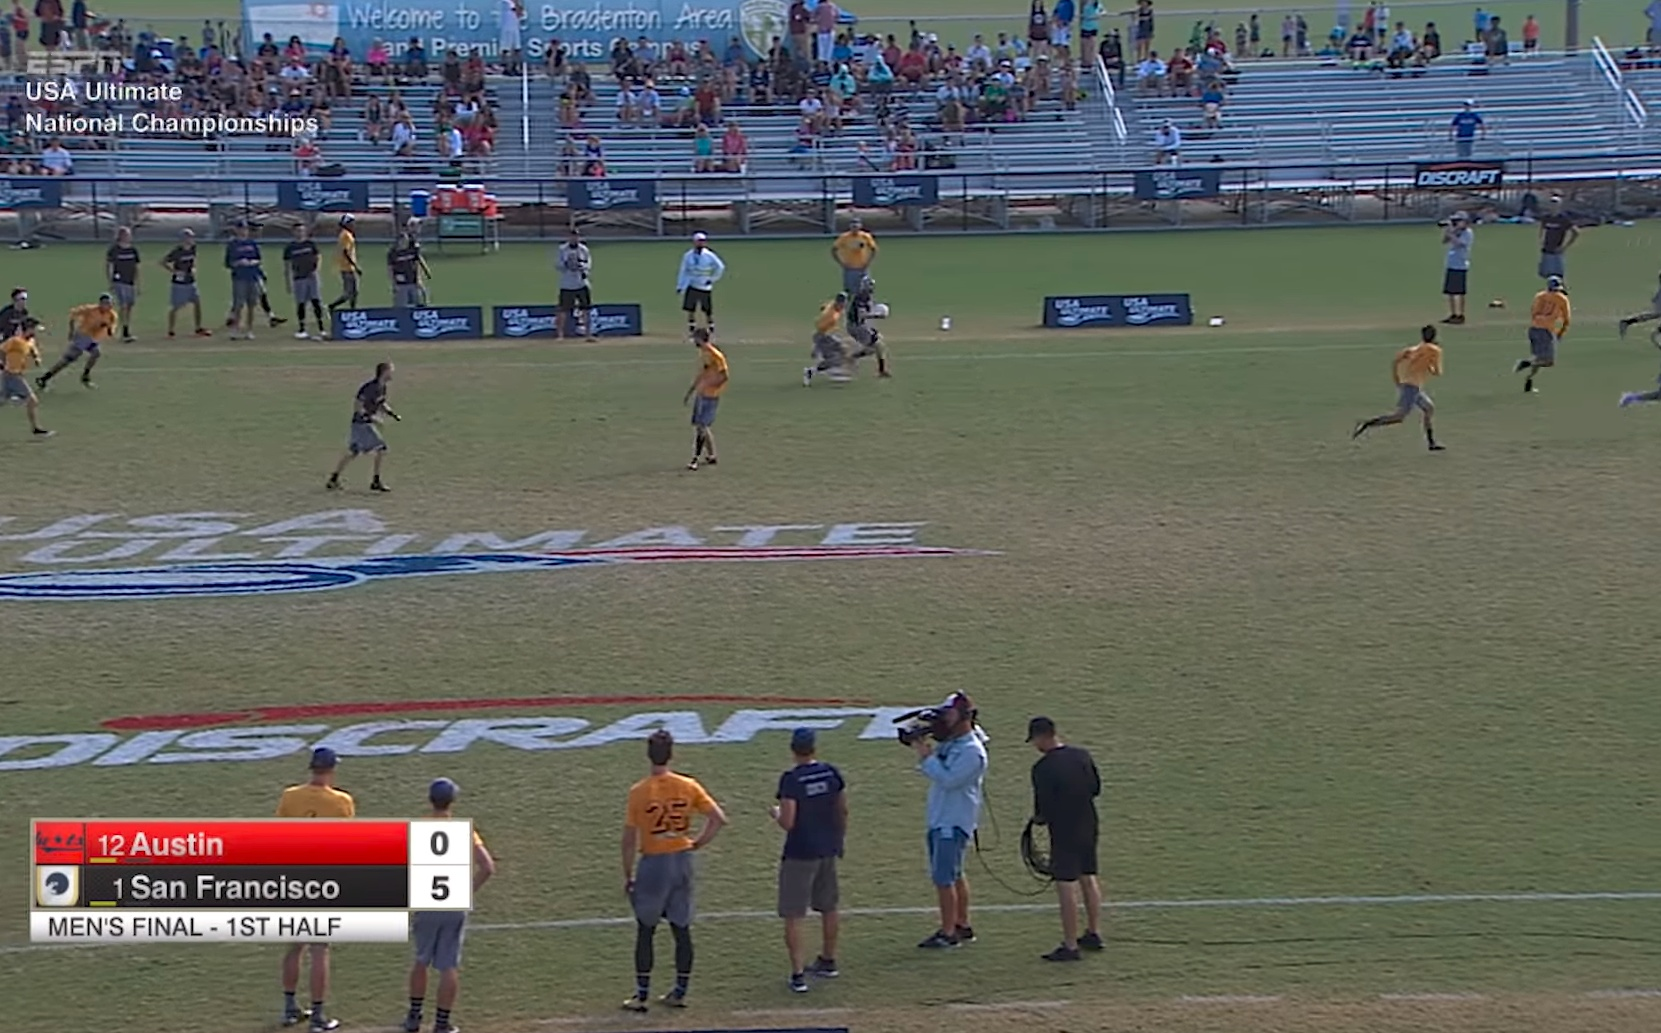frisbee: (871, 303, 889, 318)
